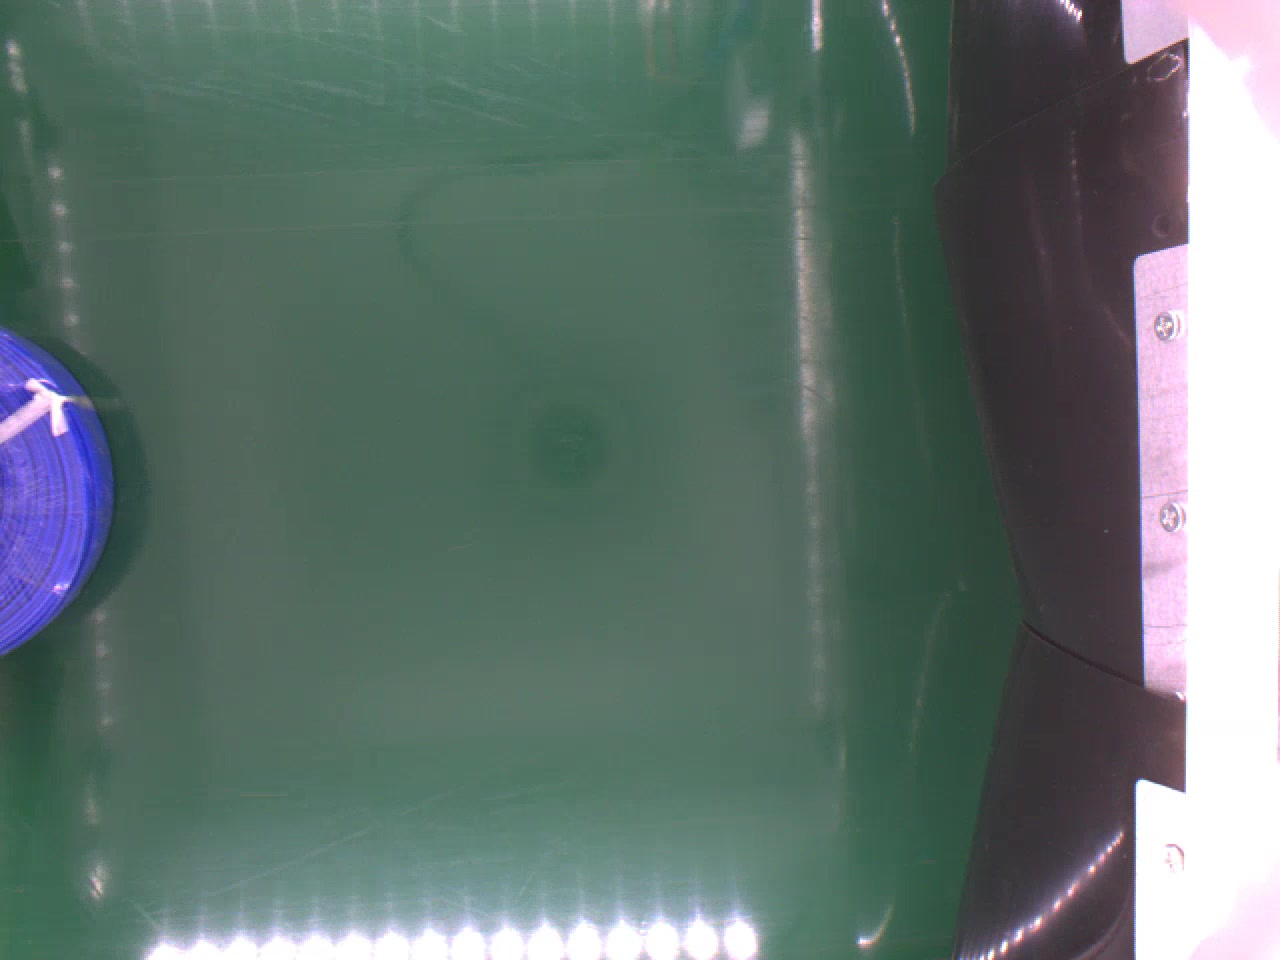blue: (0, 325, 110, 648)
